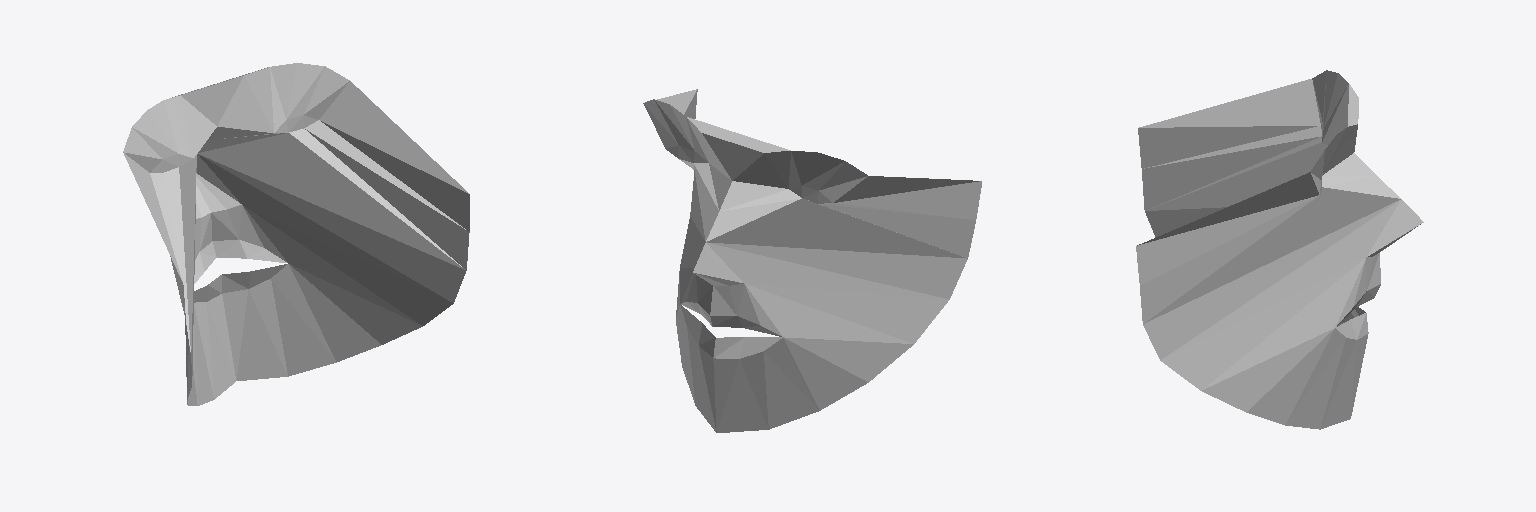
3 renders of one model, left to right at view 1: azimuth 30°, elevation 25°; view 2: azimuth 150°, elevation 25°; view 3: azimuth 270°, elevation 25°, orthographic.
Parts seen in each view (by area): view 1: GameObject; view 2: GameObject; view 3: GameObject.
Part boxes in pixels (left/top/right/bottom): GameObject: left=123, top=63, right=469, bottom=405; GameObject: left=643, top=89, right=981, bottom=432; GameObject: left=1136, top=70, right=1423, bottom=429.
Size of the model in its own units: 40.17 by 41.57 by 34.95.